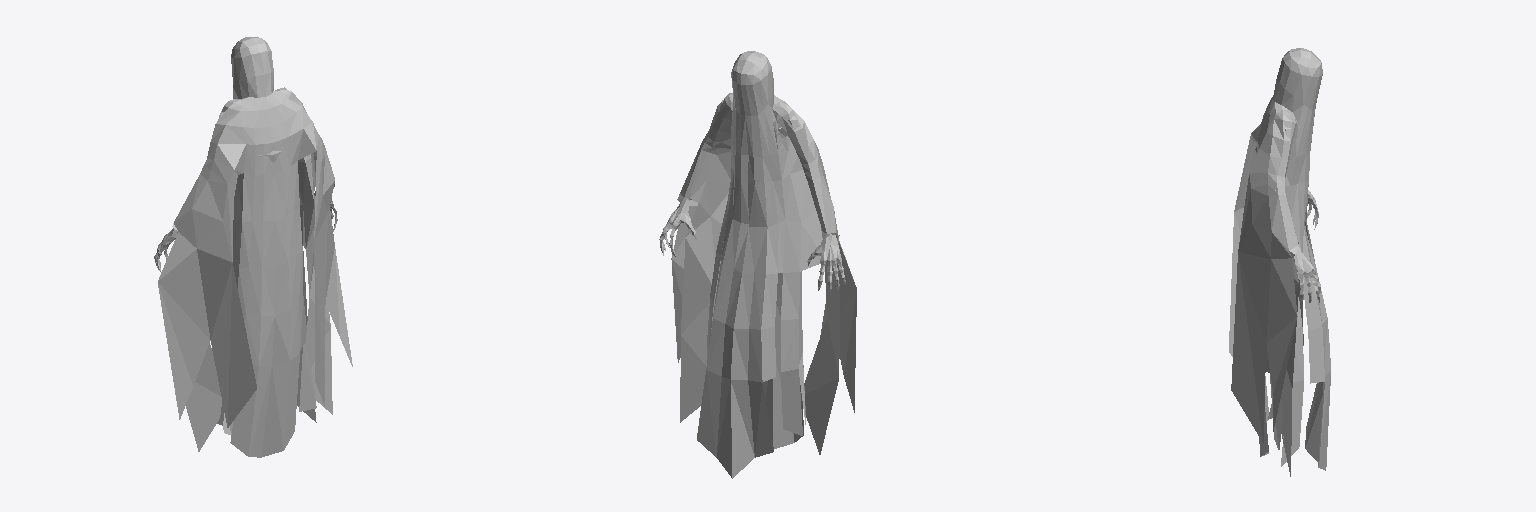
The model's file is Dementor.obj.
3 renders of one model, left to right at view 1: azimuth 30°, elevation 25°; view 2: azimuth 150°, elevation 25°; view 3: azimuth 270°, elevation 25°, orthographic.
Visible parts, largest first — view 1: material_1, material_0; view 2: material_1, material_0; view 3: material_1, material_0.
Part boxes in pixels (left/top/right/bottom): material_1: left=158, top=37, right=352, bottom=457; material_0: left=154, top=111, right=337, bottom=271; material_1: left=671, top=51, right=856, bottom=478; material_0: left=659, top=100, right=845, bottom=293; material_1: left=1229, top=48, right=1330, bottom=476; material_0: left=1255, top=127, right=1320, bottom=303.
Size of the model in its own units: 74.95 by 160 by 35.52.